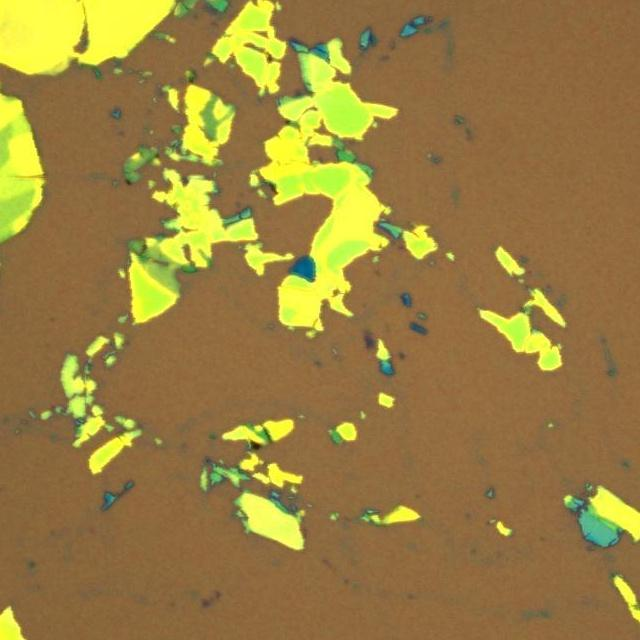monolayer-eWW4: (363, 328, 372, 338)
